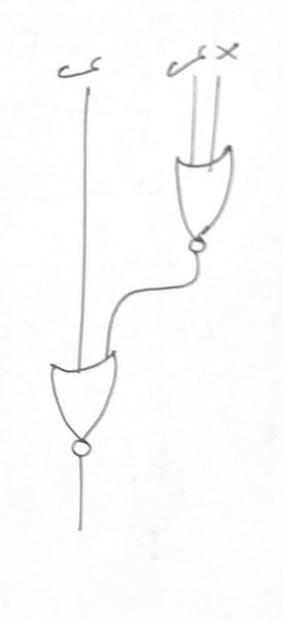NOR: (36, 346, 139, 461), (167, 145, 245, 258)
